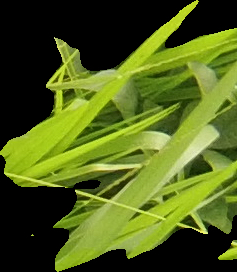grass: (1, 1, 236, 271)
